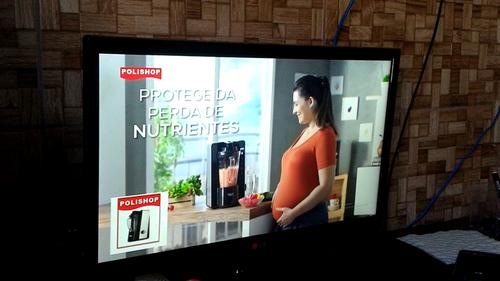Polishop #1: (109, 191, 168, 256)
